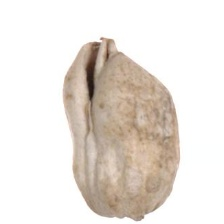L1: (81, 33, 125, 103), (107, 209, 156, 221)
L2: (62, 38, 180, 222)
